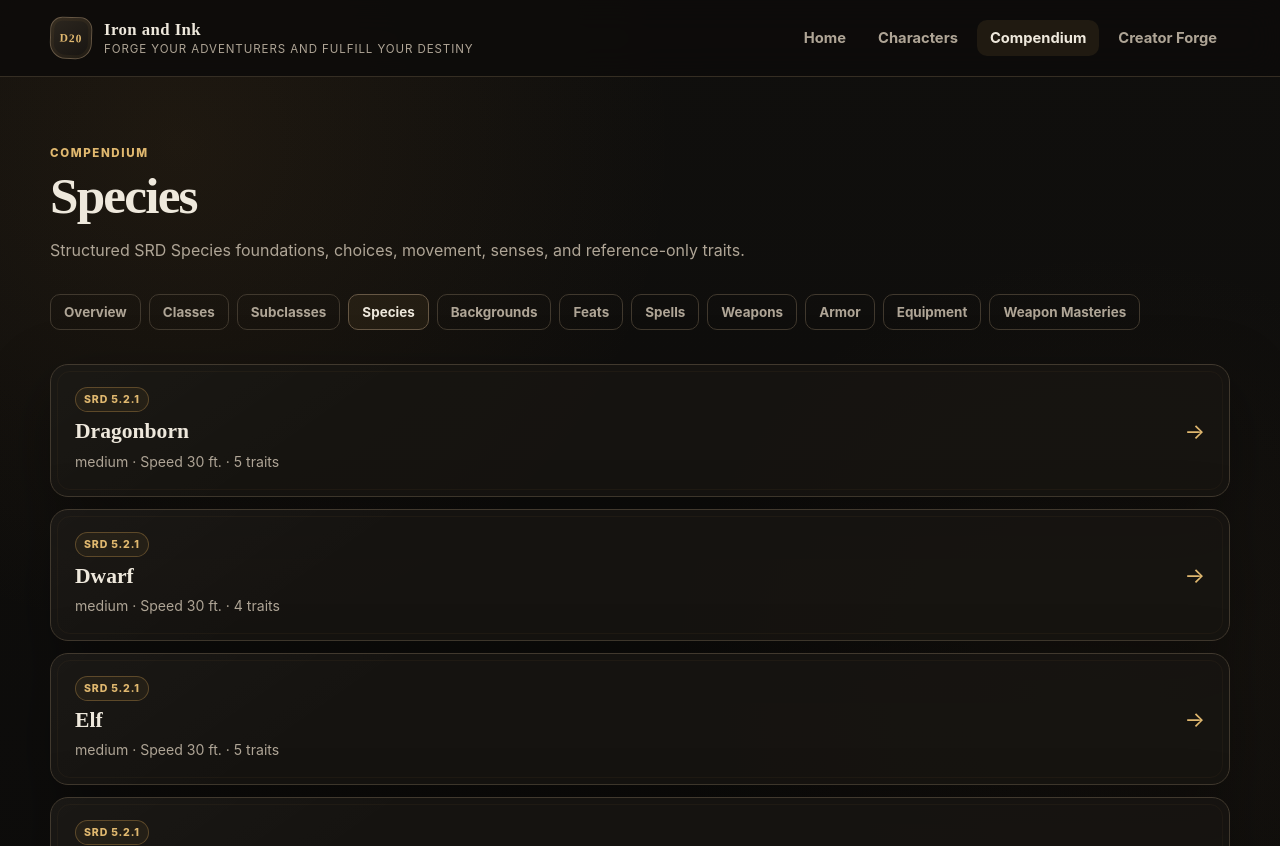
Test: Milestone 7 origin Compendium browsing › browses Species and Background registry entries with structured and reference-only data
Click the link "SRD 5.2.1 Elf medium · Speed 30 ft. · 5 traits →" at (640, 719), box [50,653,1230,785]
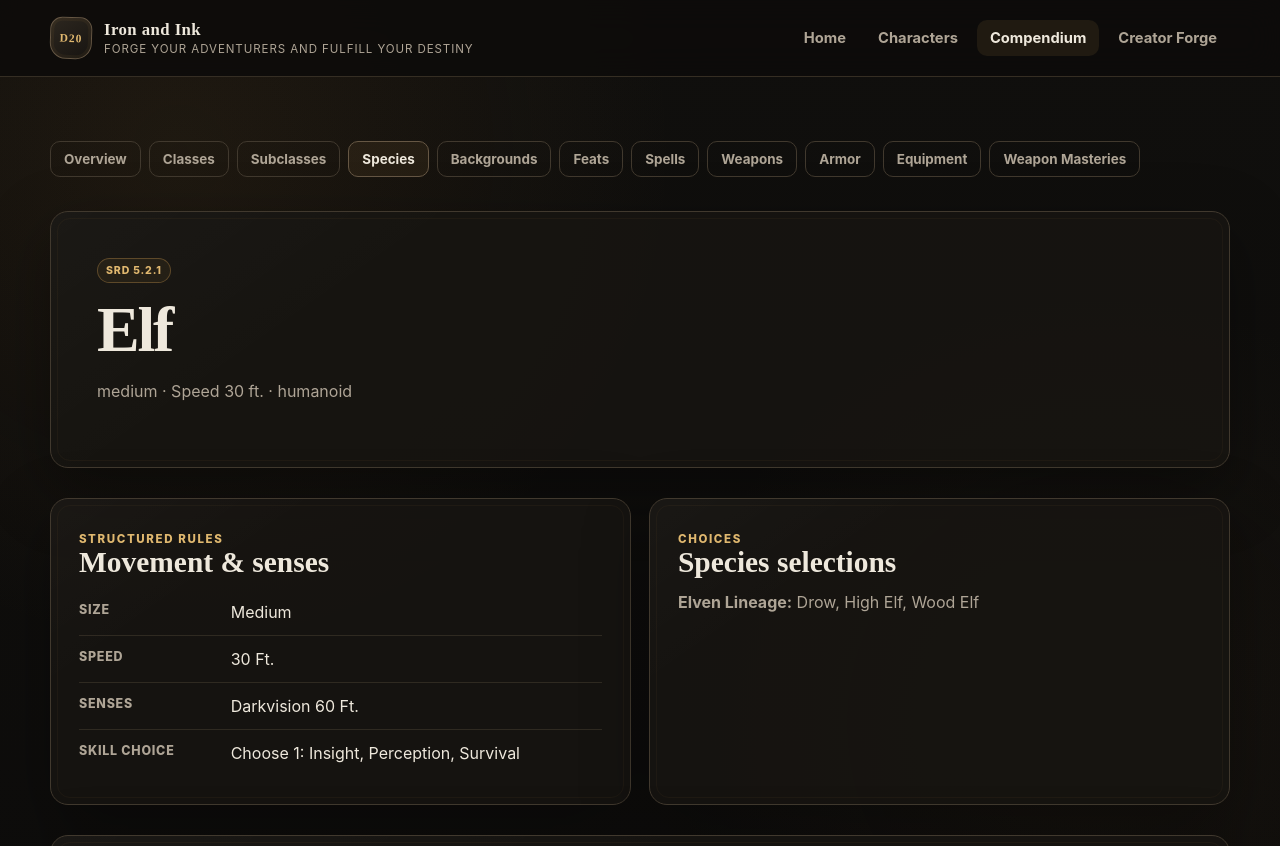
Now the heading "Elf" is shown, box [97,294,172,365]
Now the text "Elven Lineage: Drow, High Elf, Wood Elf" is shown, box [678,592,979,612]
Click the link "Backgrounds" at (494, 159), box [437,141,551,177]
(page scrolled)
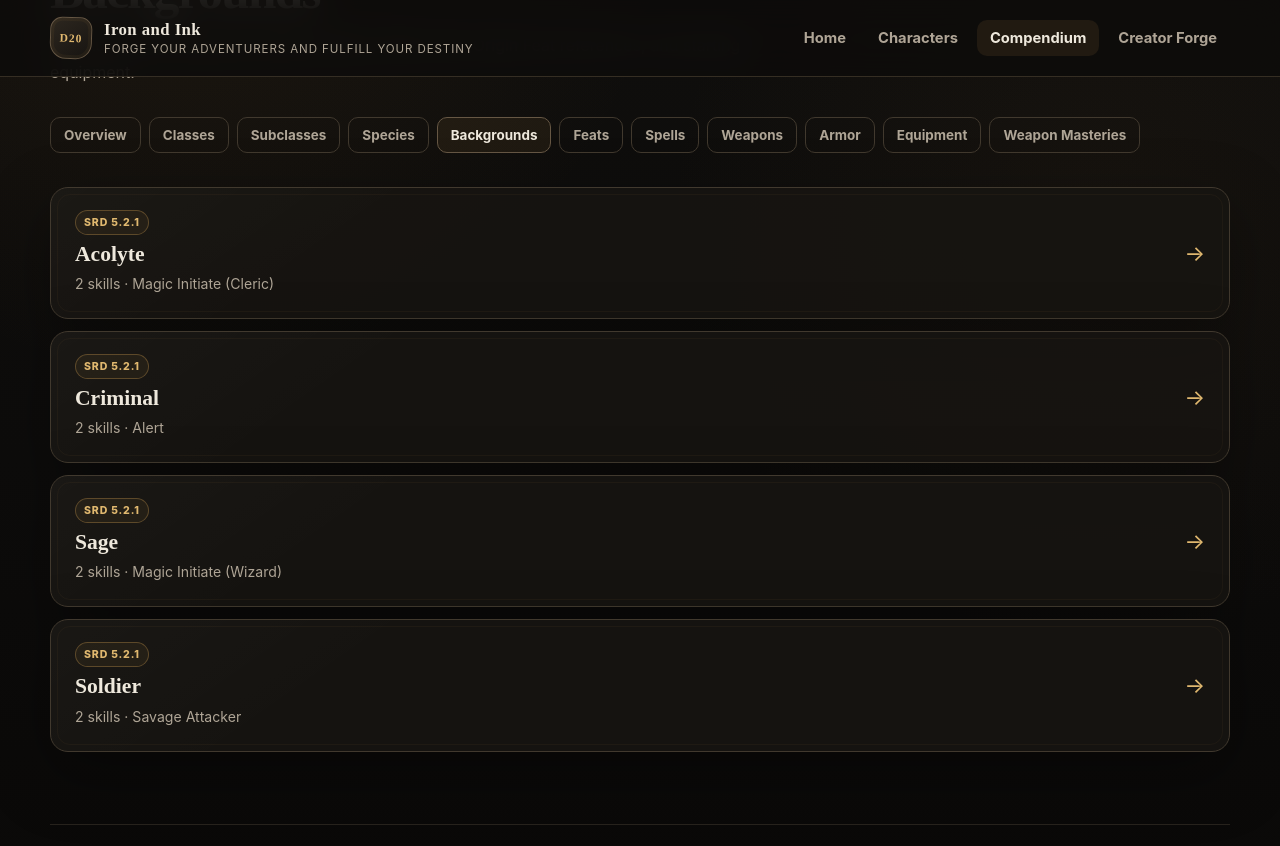
Click the link "SRD 5.2.1 Soldier 2 skills · Savage Attacker →" at (640, 686), box [50,619,1230,752]
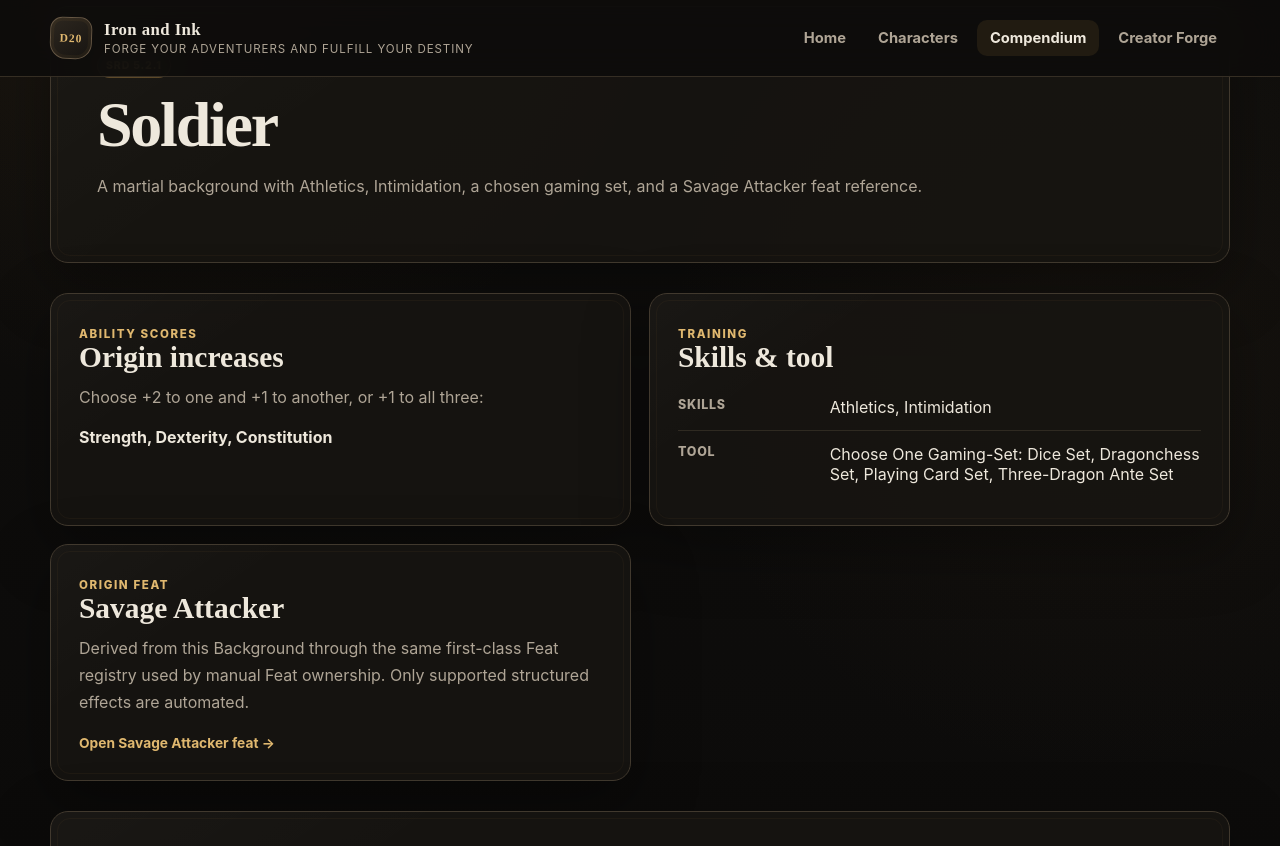
Now the heading "Soldier" is shown, box [97,89,277,160]
Now the heading "Savage Attacker" is shown, box [79,592,284,624]
Now the text "Dragonchess Set" is shown, box [830,444,1200,484]
